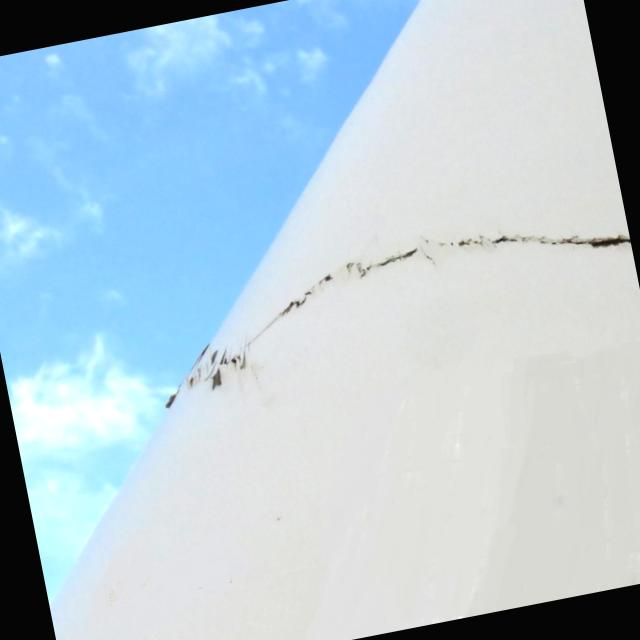crack: (139, 197, 640, 410)
